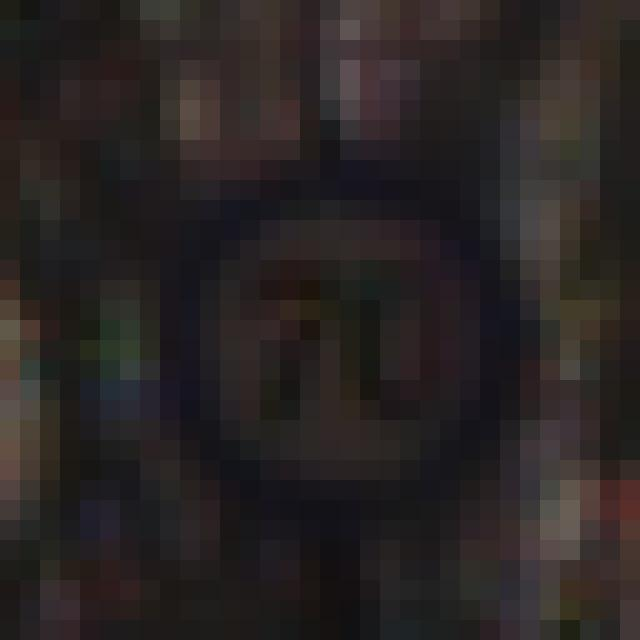SPEED LIMIT 70: (197, 165, 508, 507)
